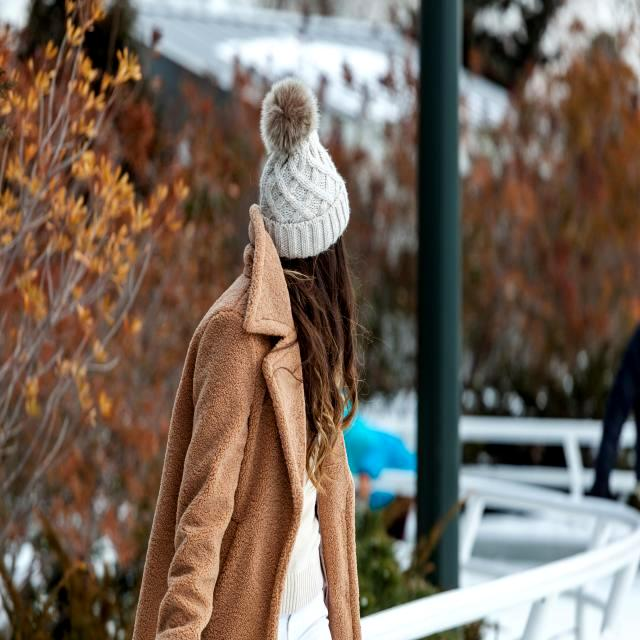no_hard_hat: (259, 77, 350, 259)
person: (133, 78, 361, 640)
